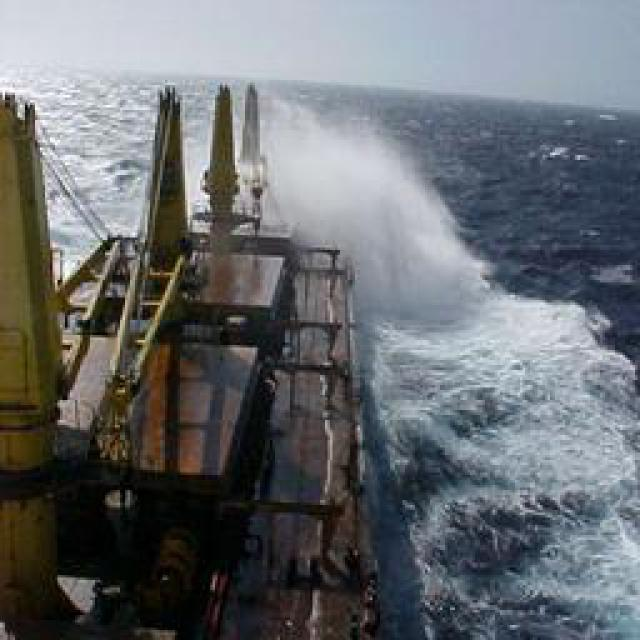Ship: (1, 66, 388, 640)
